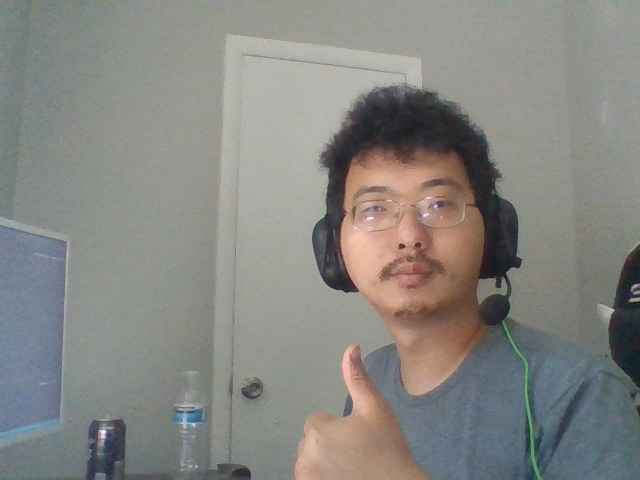ThumbsUp: (293, 343, 425, 480)
